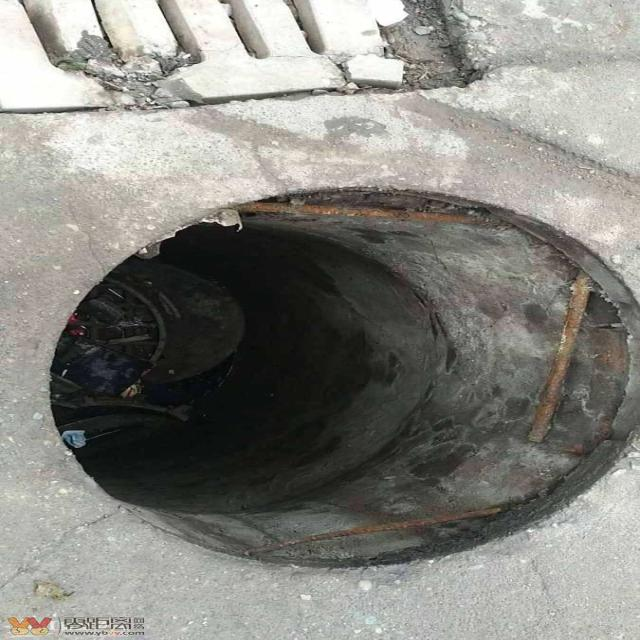manhole-cover: (25, 212, 628, 576)
